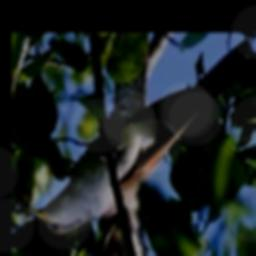Cuckoo: (30, 41, 256, 236)
